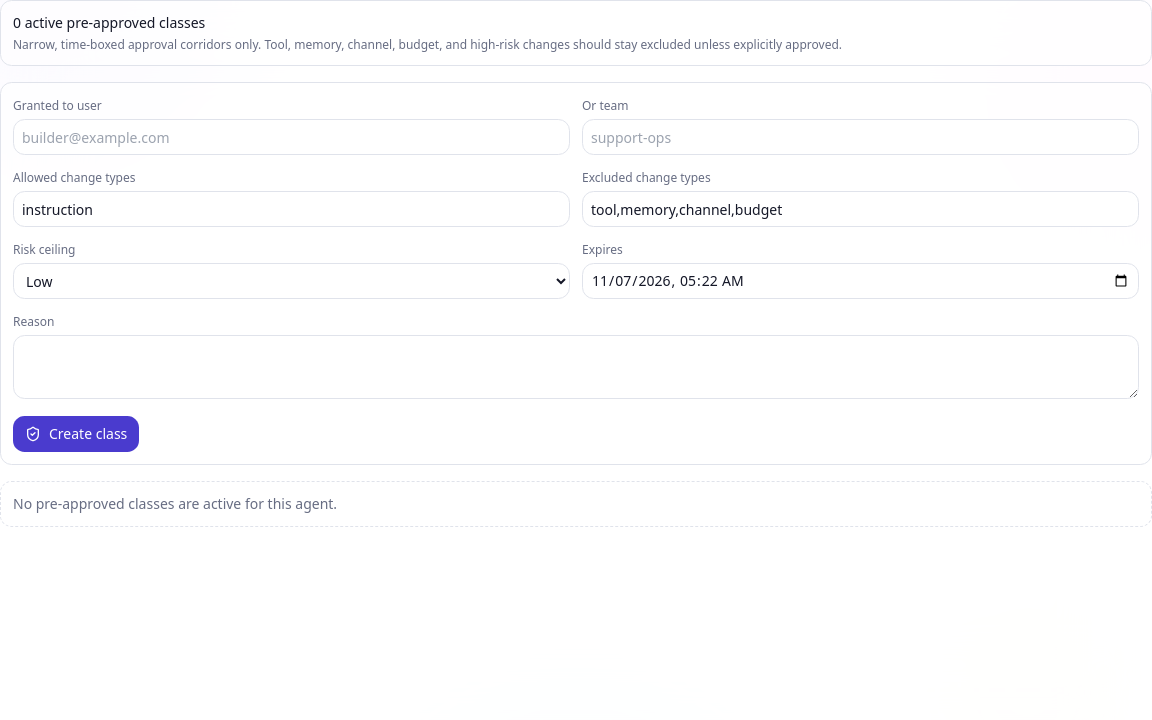
PreApprovedClassesPanel › requires a grantee and allowed change types before creating
Click the button with test id "preapproved-create" at (76, 434), box [13,416,139,452]
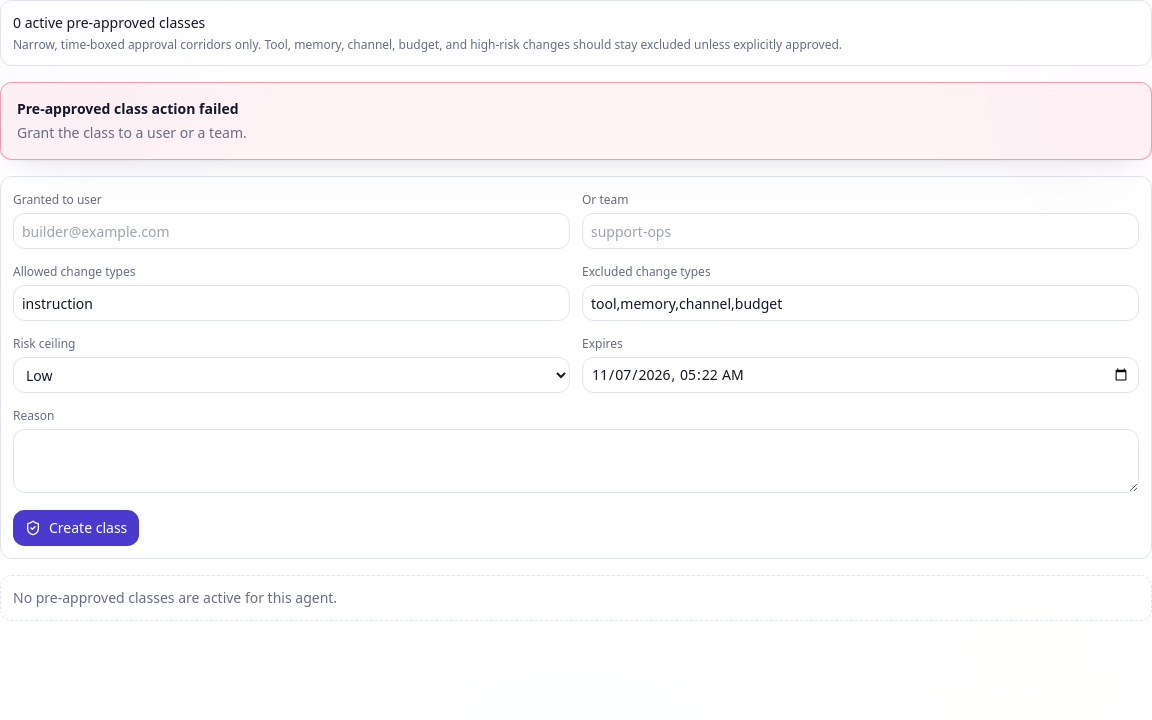
Expected: the text "Grant the class to a user or a team." is shown, [17,123,247,143]
Type "owner@example.com" into the field with test id "preapproved-user" at (292, 231), box [13,213,570,249]
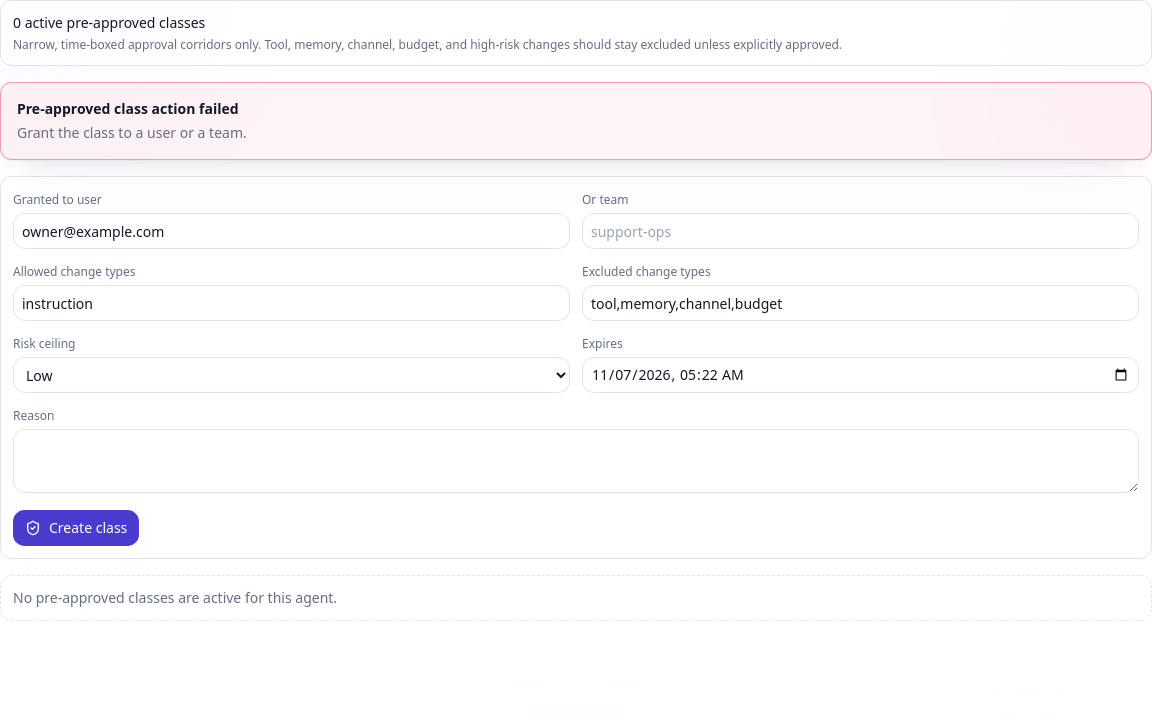
Clear the field with test id "preapproved-allowed" at (292, 303), box [13,285,570,321]
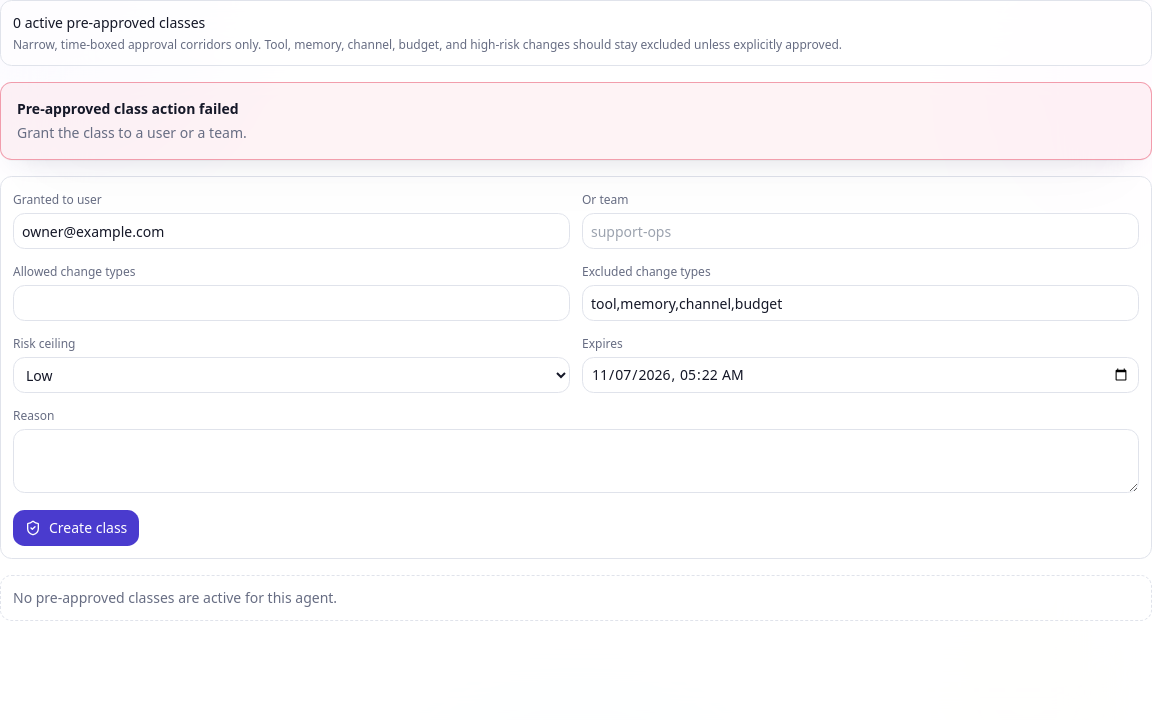
Click the button with test id "preapproved-create" at (76, 528), box [13,510,139,546]
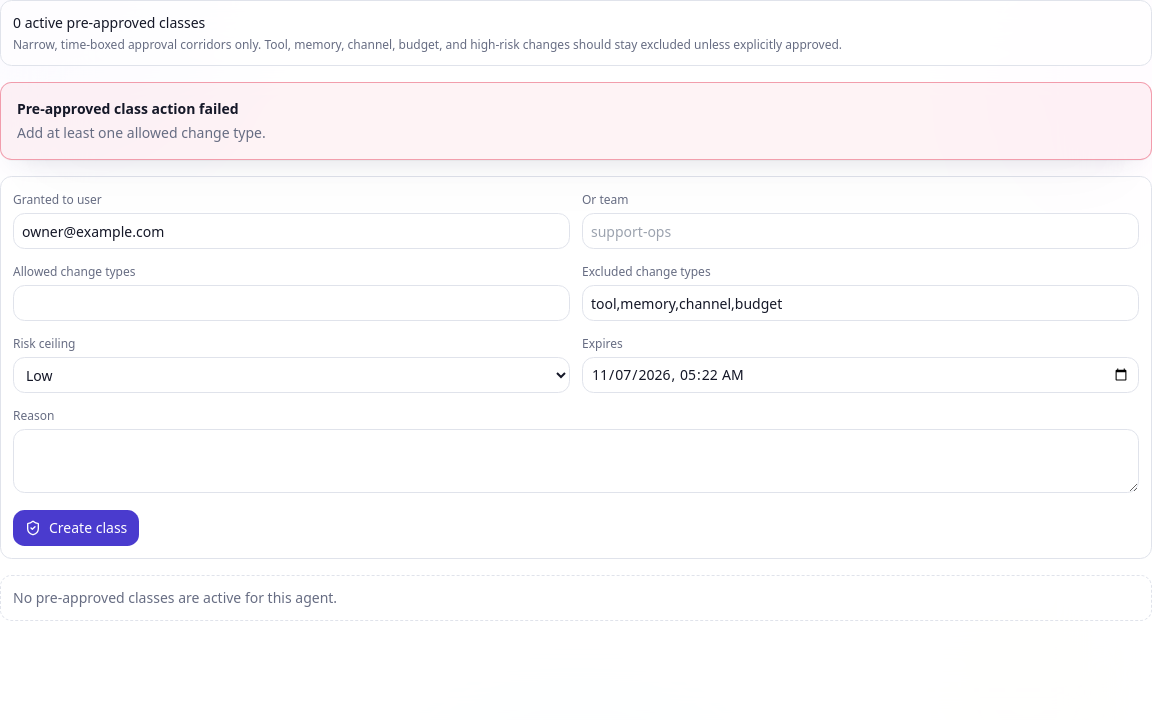
Expected: the text "Add at least one allowed change type." is shown, [17,123,266,143]
